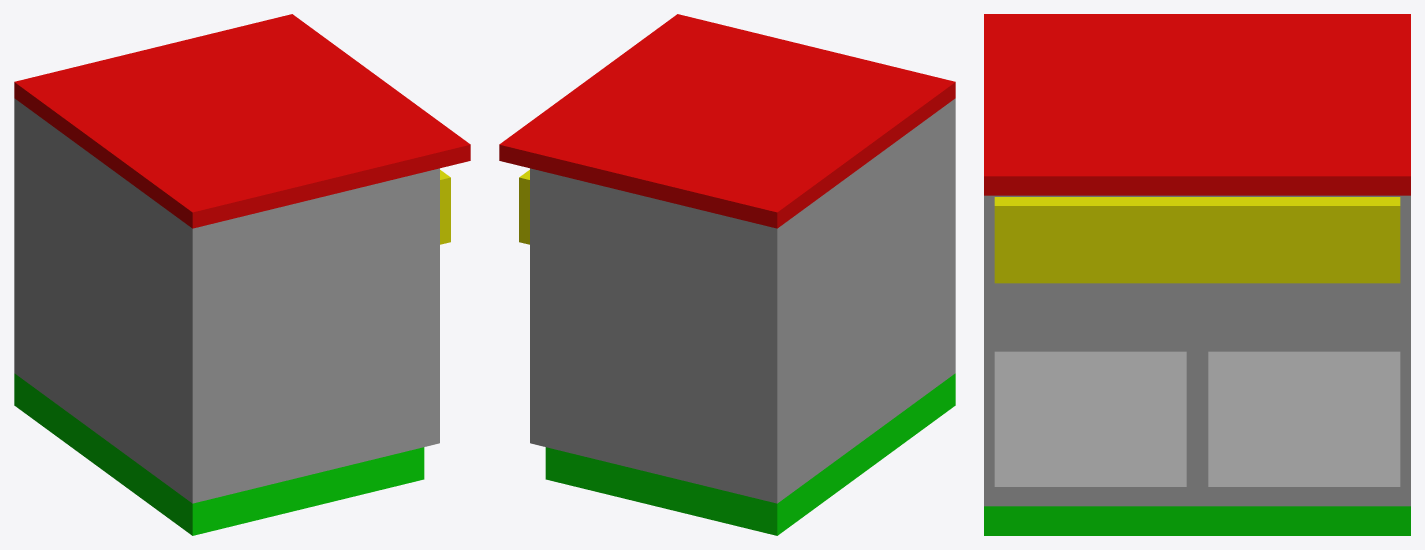
Rendered from SM_Cabinet_Base.fbx.
3 views of the same model, side by side, from view 1: azimuth 30°, elevation 25°; view 2: azimuth 150°, elevation 25°; view 3: azimuth 270°, elevation 25° (orthographic). The views are drawn at different scales.
Visible parts, largest first — view 1: SM_Cabinet_Base_Base; view 2: SM_Cabinet_Base_Base; view 3: SM_Cabinet_Base_Base.
Part boxes in pixels (<box>): SM_Cabinet_Base_Base: <box>14,14,470,535</box>; SM_Cabinet_Base_Base: <box>499,14,955,535</box>; SM_Cabinet_Base_Base: <box>984,14,1410,535</box>.
Size of what is drawn, in the model's own units: 90 by 100 by 100.
